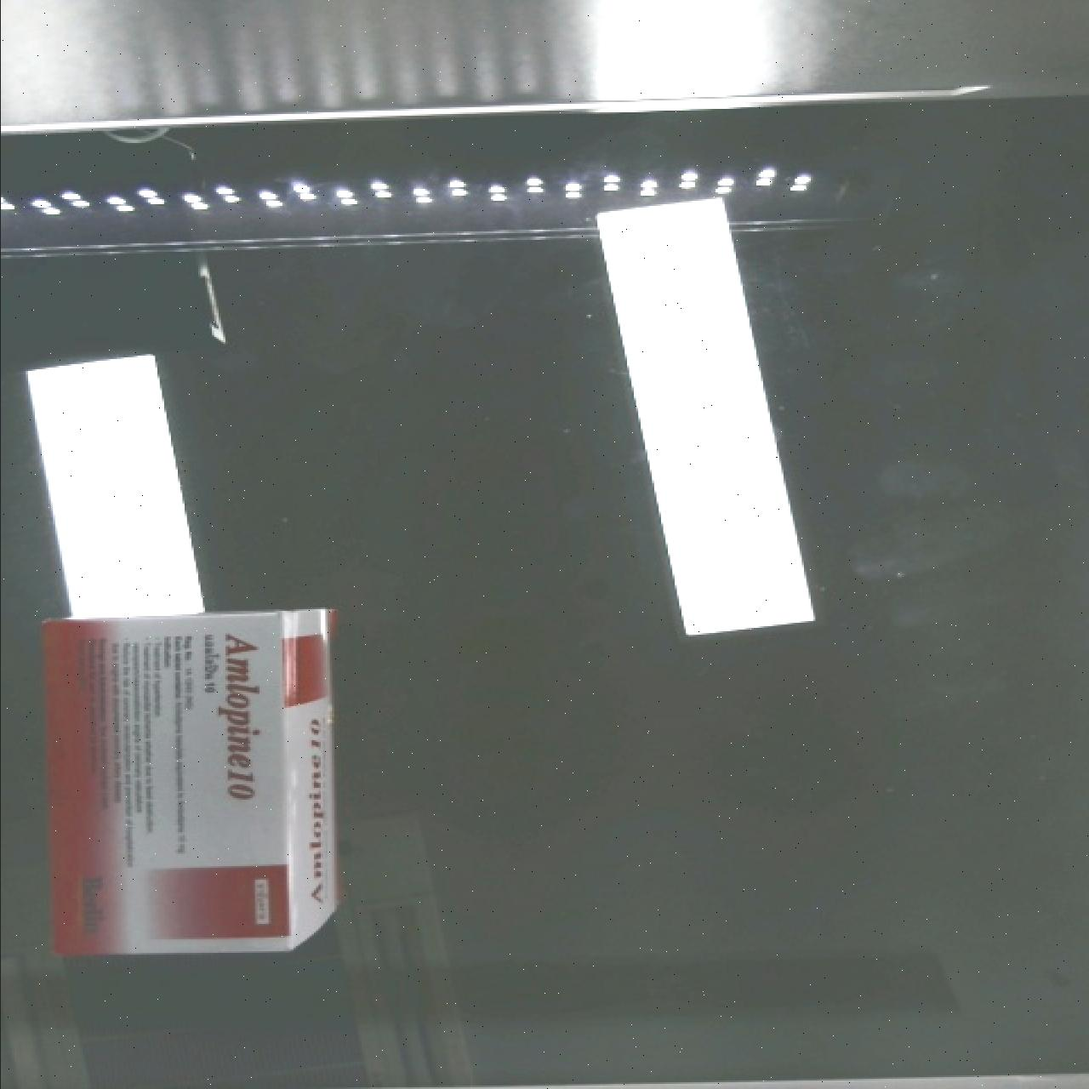medicine_label_obb: (205, 615, 279, 821)
